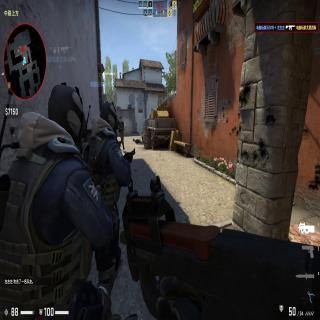CT-Head: (50, 81, 88, 142), (102, 101, 117, 132)
T-Body: (117, 116, 125, 149)
T-Head: (119, 116, 123, 122)
